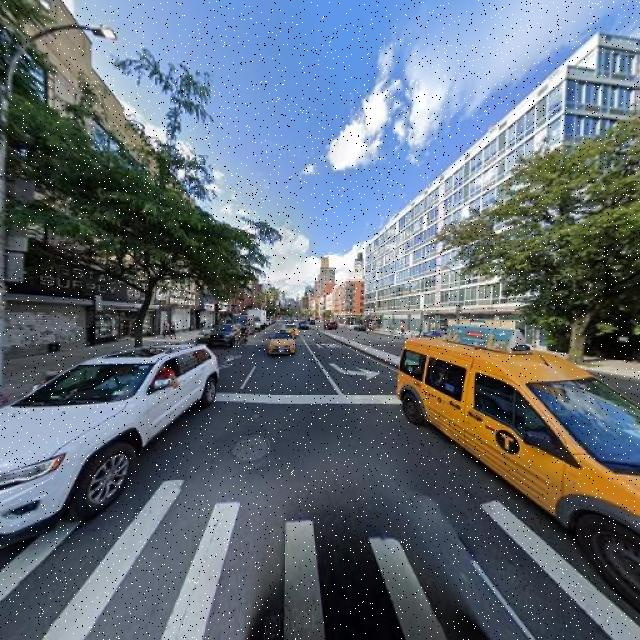Building: (367, 69, 640, 353), (1, 1, 147, 355), (152, 153, 194, 337), (198, 210, 217, 330)
